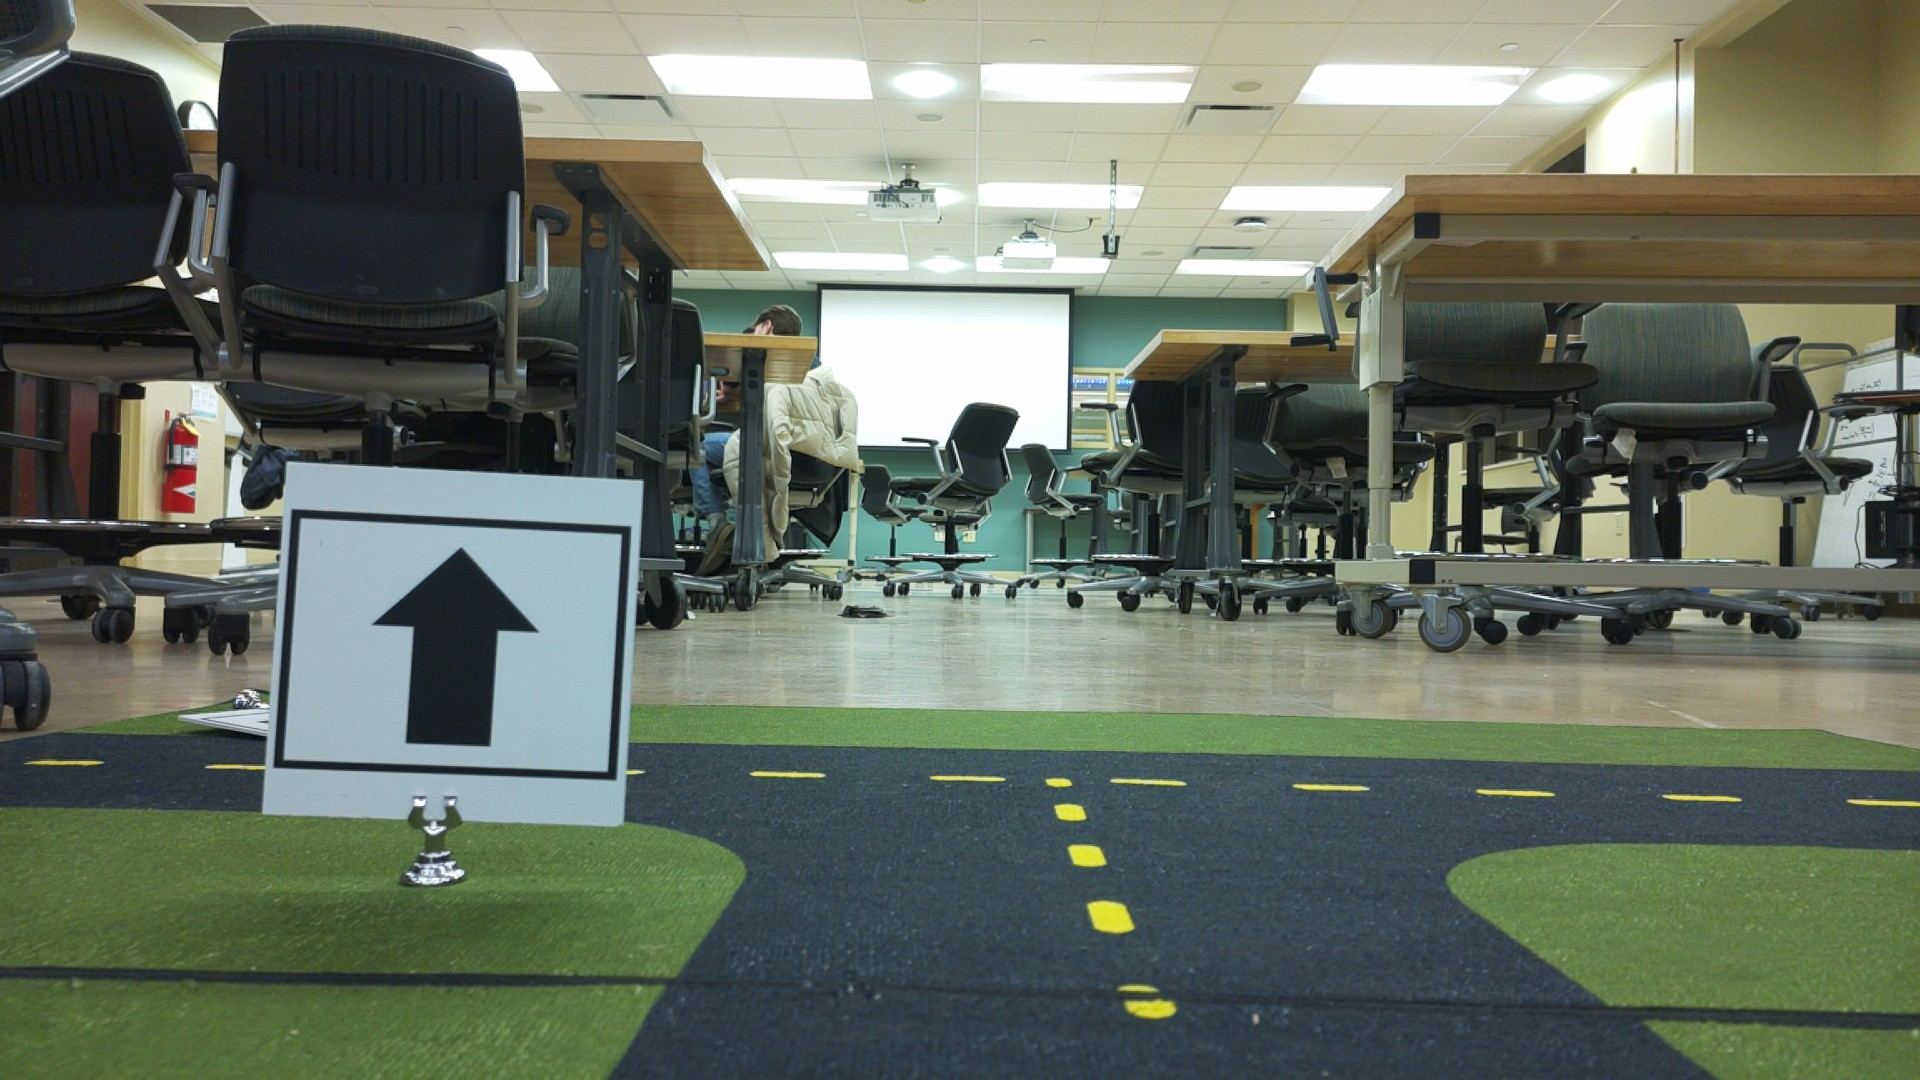gostraight: (291, 484, 625, 799)
